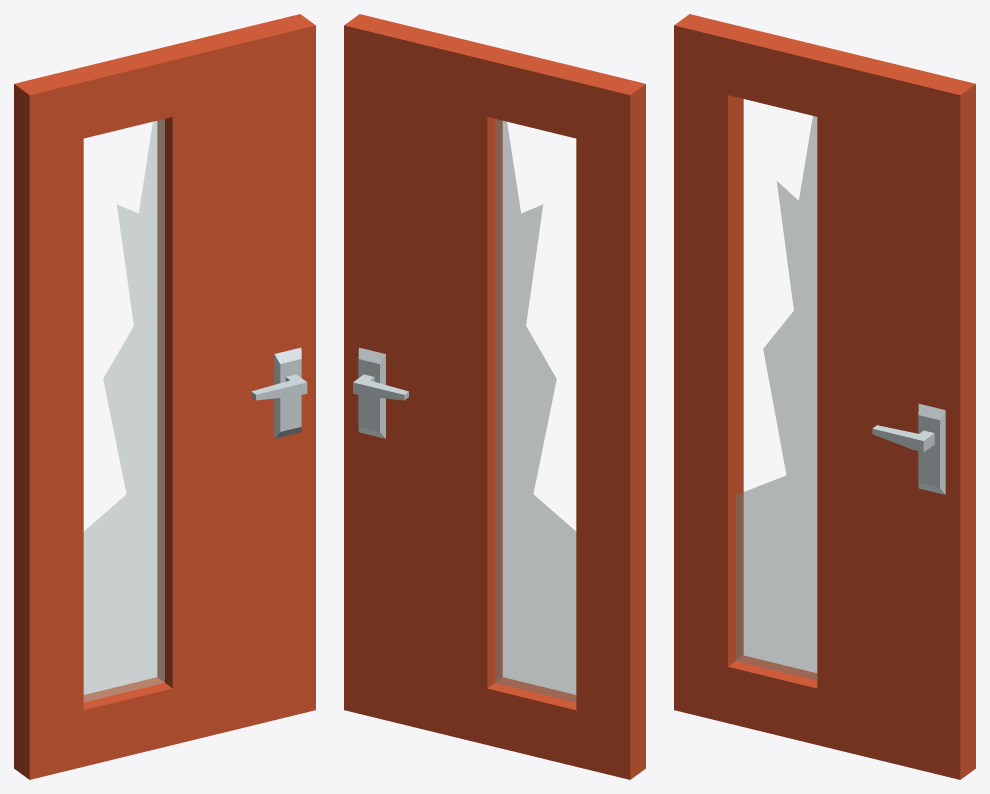
The model's file is FrontDoor.fbx.
3 renders of one model, left to right at view 1: azimuth 30°, elevation 25°; view 2: azimuth 150°, elevation 25°; view 3: azimuth 330°, elevation 25°, orthographic.
Visible parts, largest first — view 1: door; view 2: door; view 3: door.
Part boxes in pixels (x1=…): door: x1=14, y1=14, x2=315, y2=779; door: x1=344, y1=14, x2=645, y2=779; door: x1=674, y1=14, x2=975, y2=779.
Bounding box in the file's own units: 172 × 392 × 45.36.
